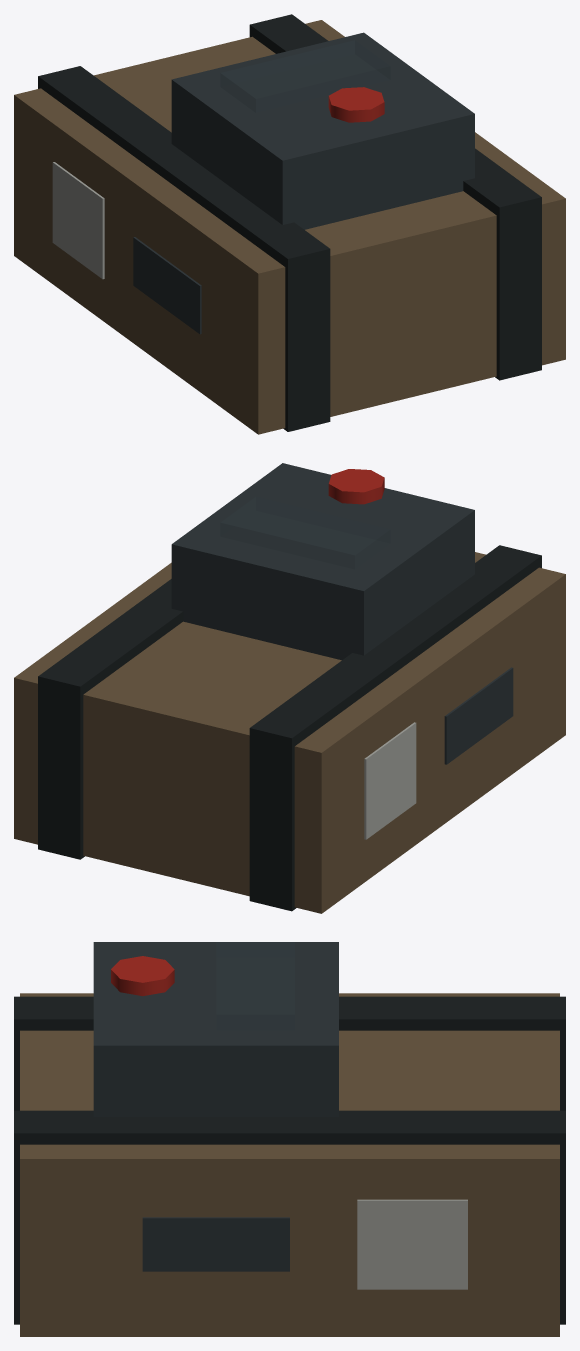
The picture shows the model from 3 angles, top to bottom: view 1: azimuth 30°, elevation 25°; view 2: azimuth 150°, elevation 25°; view 3: azimuth 270°, elevation 25°; orthographic projection. The views are drawn at different scales.
Visible parts, largest first — view 1: weapon-c4-painted, weapon-c4-glazing, weapon-charge-light-painted; view 2: weapon-c4-painted, weapon-c4-glazing, weapon-charge-light-painted; view 3: weapon-c4-painted, weapon-c4-glazing, weapon-charge-light-painted.
Part boxes in pixels (left/top/right/bottom): weapon-c4-painted: left=14, top=14, right=565, bottom=434; weapon-c4-glazing: left=220, top=40, right=390, bottom=112; weapon-charge-light-painted: left=328, top=87, right=384, bottom=122; weapon-c4-painted: left=14, top=463, right=565, bottom=913; weapon-c4-glazing: left=220, top=497, right=390, bottom=568; weapon-charge-light-painted: left=328, top=469, right=384, bottom=504; weapon-c4-painted: left=14, top=942, right=565, bottom=1336; weapon-c4-glazing: left=216, top=942, right=294, bottom=1029; weapon-charge-light-painted: left=111, top=956, right=174, bottom=996.
Bounding box in the file's own units: 0.8388 × 0.6639 × 1.16.
